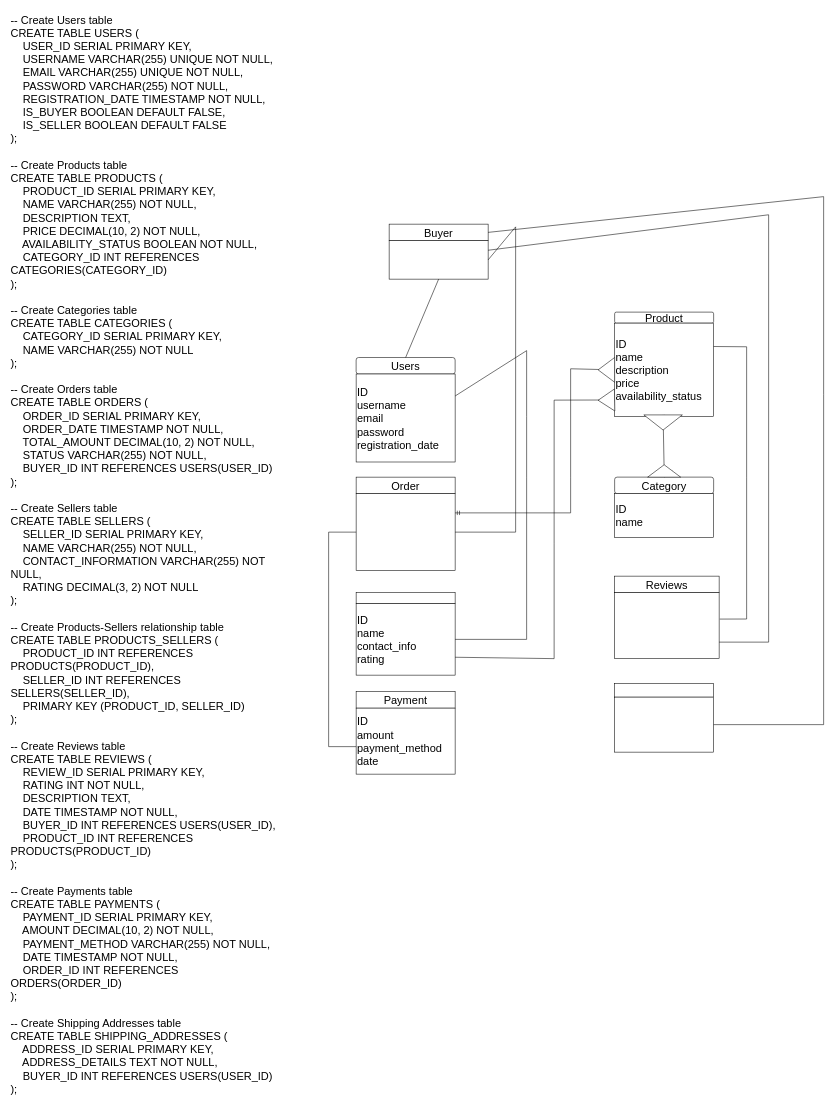
Image size: 834x1105. Some labels were removed from this diagram. The shapes that lost their labels are listed below. From the top down, each one's centre as x and y in pixels, then its label:
pixel 438 259: ID name contact_info
pixel 405 532: ID order_date total_amount status
pixel 405 598: Seller
pixel 666 625: ID rating description date
pixel 664 690: Shipping Address
pixel 664 724: ID address_details buyer_ID
